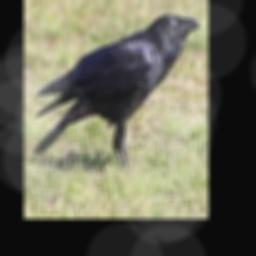Crow: (34, 13, 199, 169)
